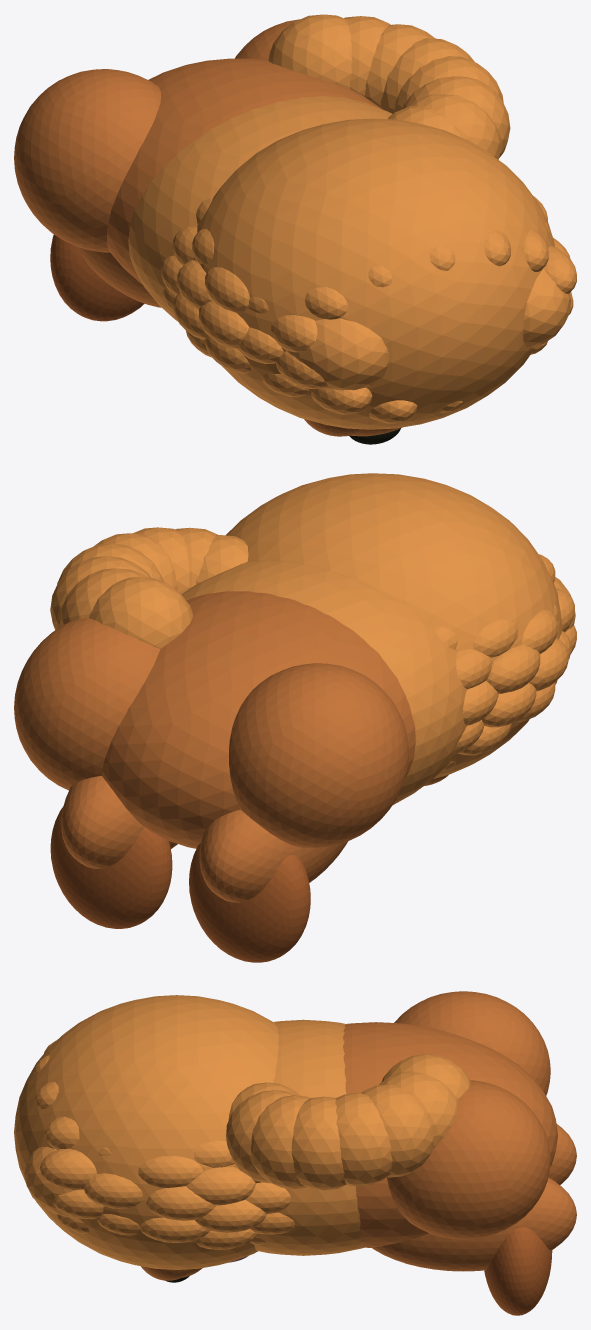
Rendered from chow-chow.glb.
3 views of the same model, one above another, from view 1: azimuth 30°, elevation 25°; view 2: azimuth 150°, elevation 25°; view 3: azimuth 270°, elevation 25° (orthographic). The views are drawn at different scales.
Visible parts, largest first — view 1: world; view 2: world; view 3: world.
Boxes of the visible parts, <box> form: world: <box>14,14,576,444</box>; world: <box>14,473,576,962</box>; world: <box>14,991,576,1315</box>.
Bounding box in the file's own units: 2.73 × 2.03 × 3.87.
